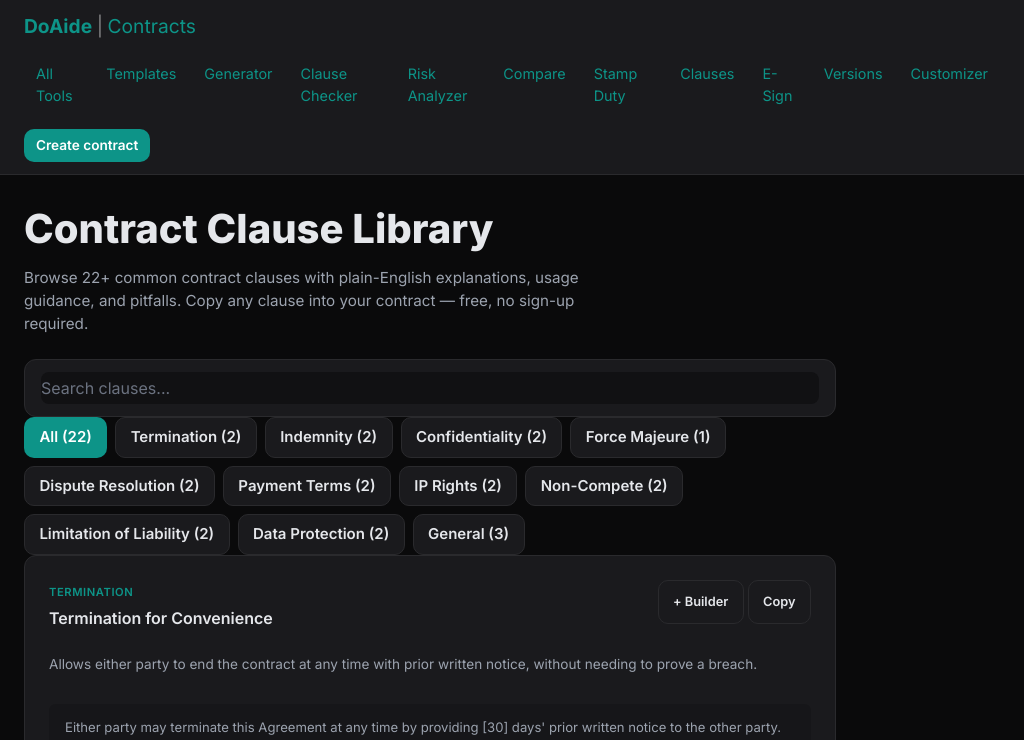
Test: ClauseLibraryPage › shows no results message for unmatched search
Type "xyznonexistent" into the field with placeholder "Search clauses...". click: (430, 388)
box: [41,372,819,404]
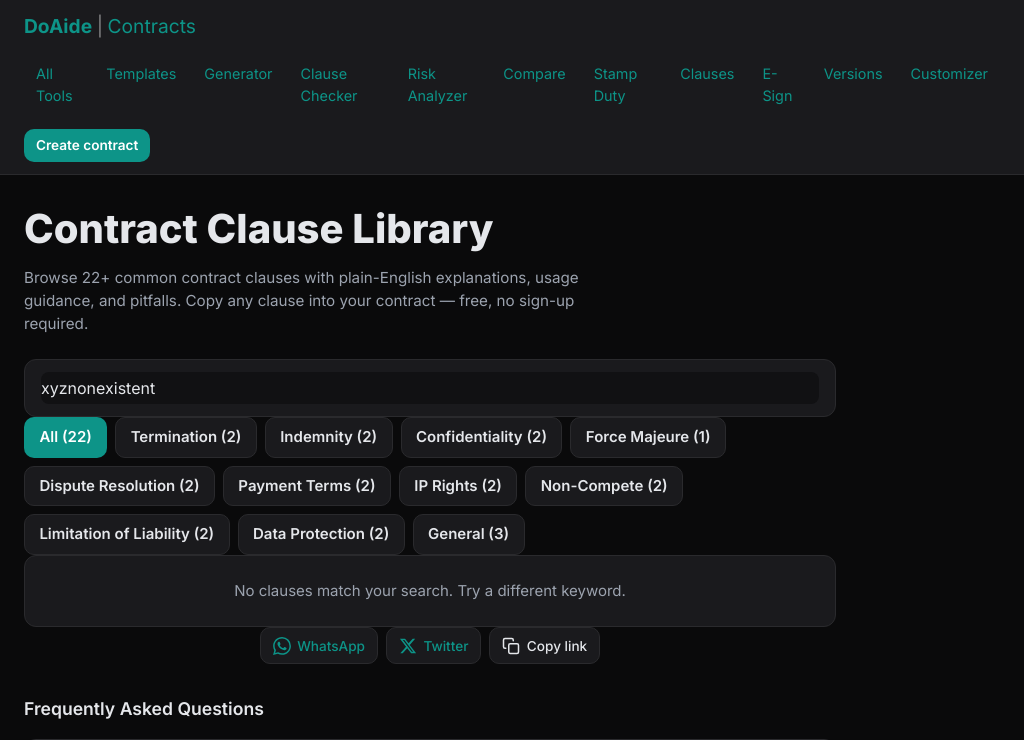
Check: the text "No clauses match your search. Try a different keyword." is shown, box [24,555,836,627]
